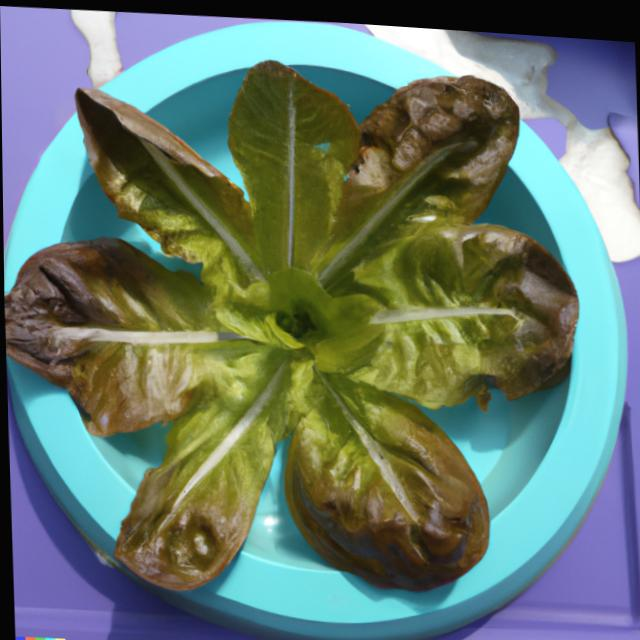-P: (0, 33, 595, 640)
